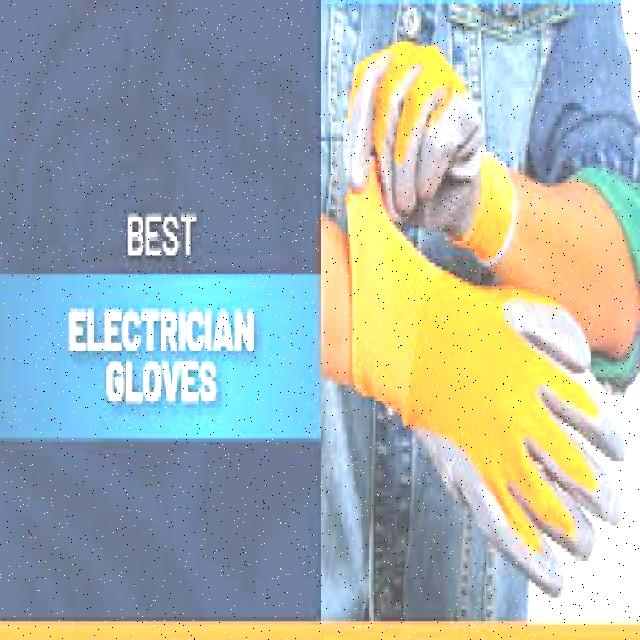Gloves: (340, 193, 618, 604), (344, 42, 518, 250)
